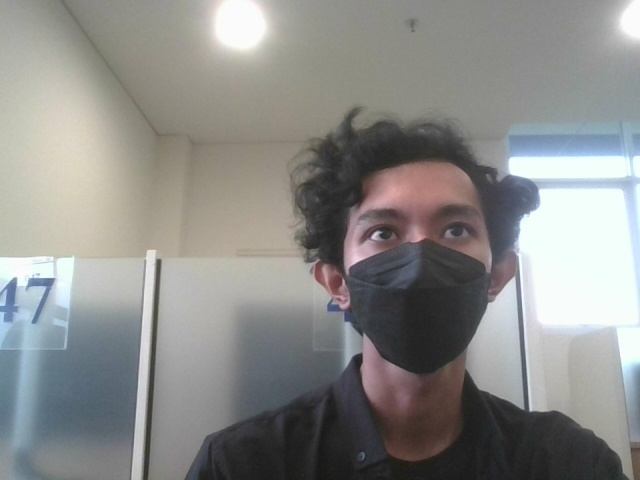Awake: (283, 104, 524, 470)
